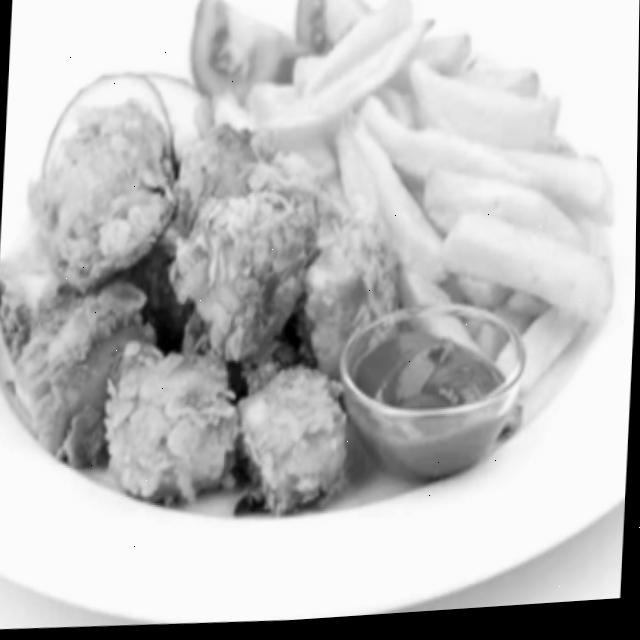鸡肉料理 含炸鸡: (0, 47, 437, 560)
